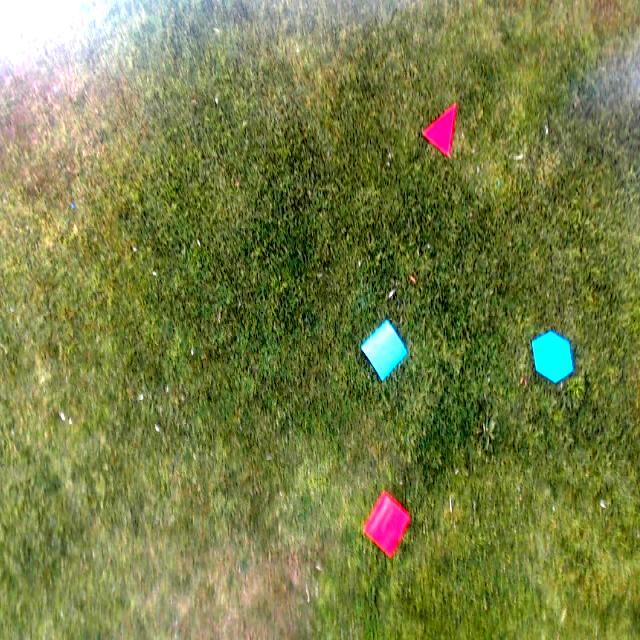blue_hexagon: (532, 330, 574, 383)
blue_square: (360, 319, 408, 382)
red_square: (363, 490, 409, 558), (420, 103, 458, 157)
